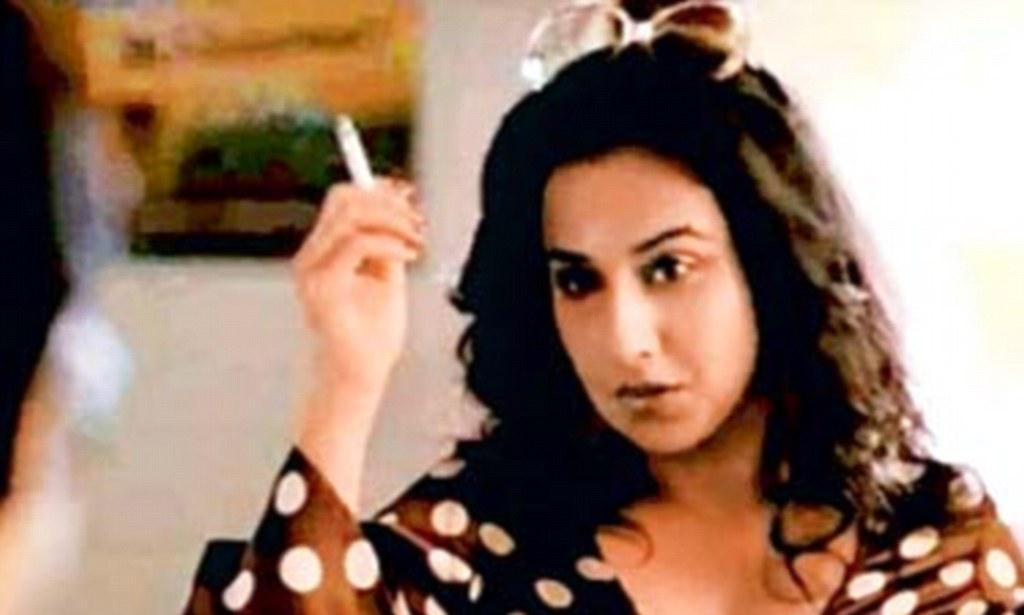smoking: (318, 102, 396, 206)
